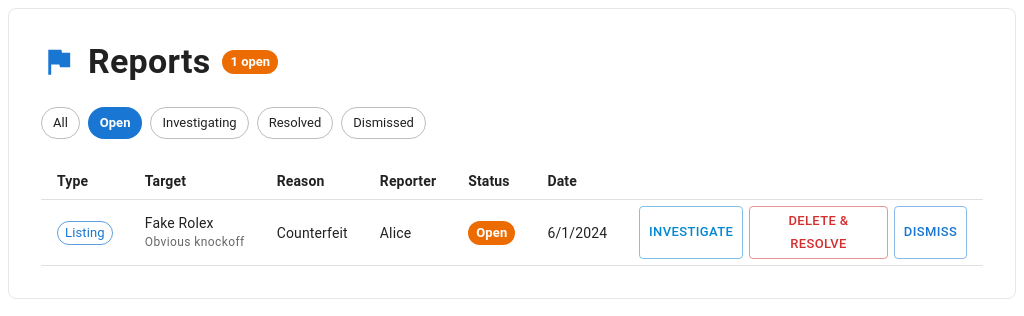
Test: ReportsPage › dismisses a report and removes it from the list
Expected: the text "Fake Rolex" is shown, [145,215,214,231]
Click the button "Dismiss".
click(930, 233)  # box [894,206,967,260]
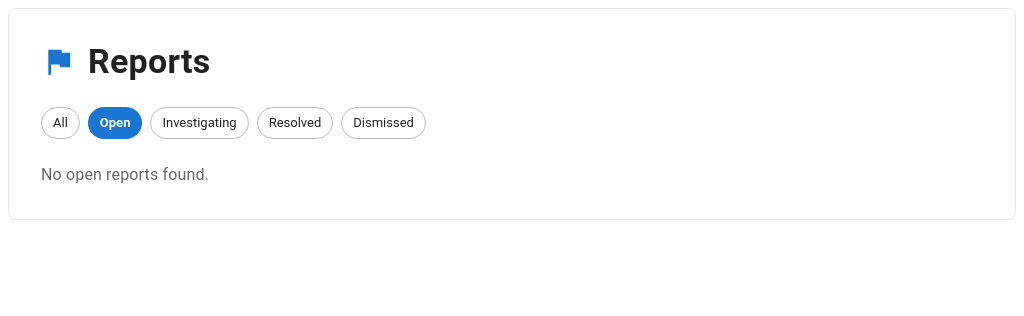
Result: the text "Fake Rolex" is gone
